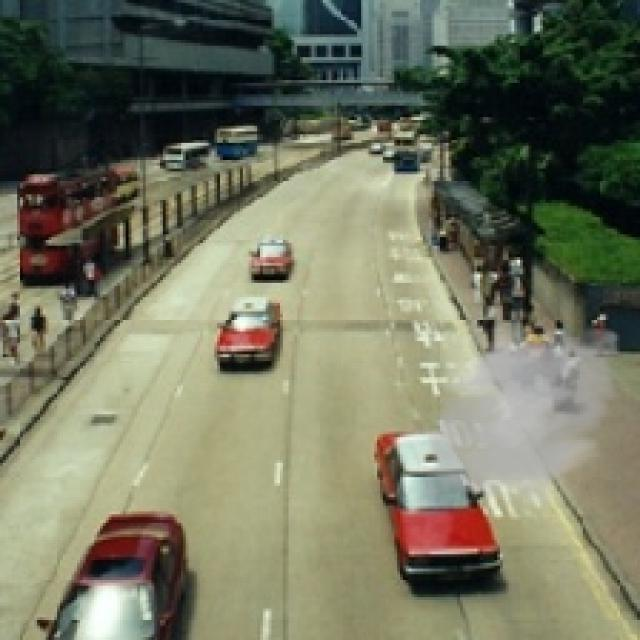Smoke: (414, 312, 629, 522)
